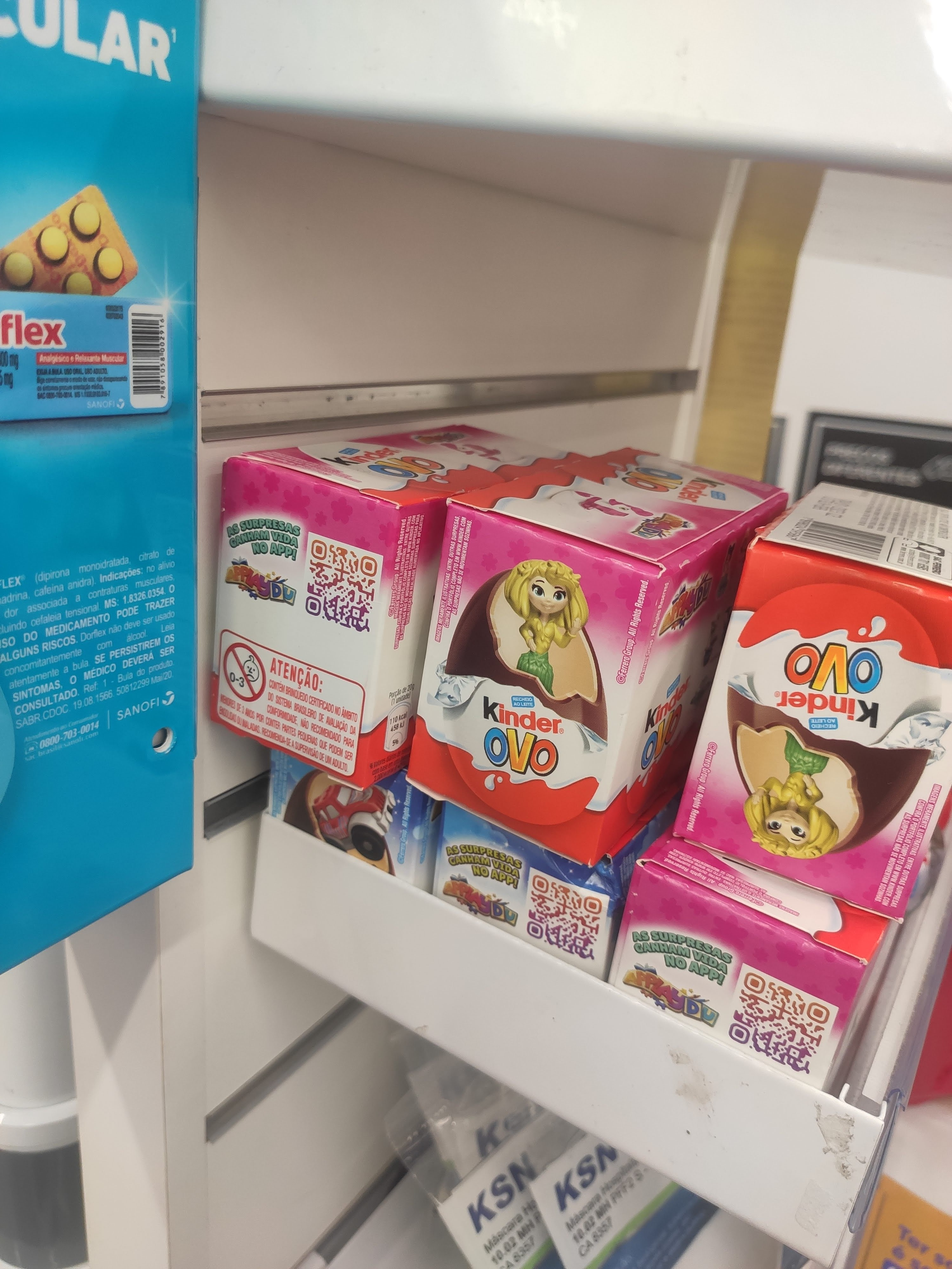QR-CODE: (729, 972, 830, 1074), (306, 539, 377, 632), (527, 874, 602, 960)
